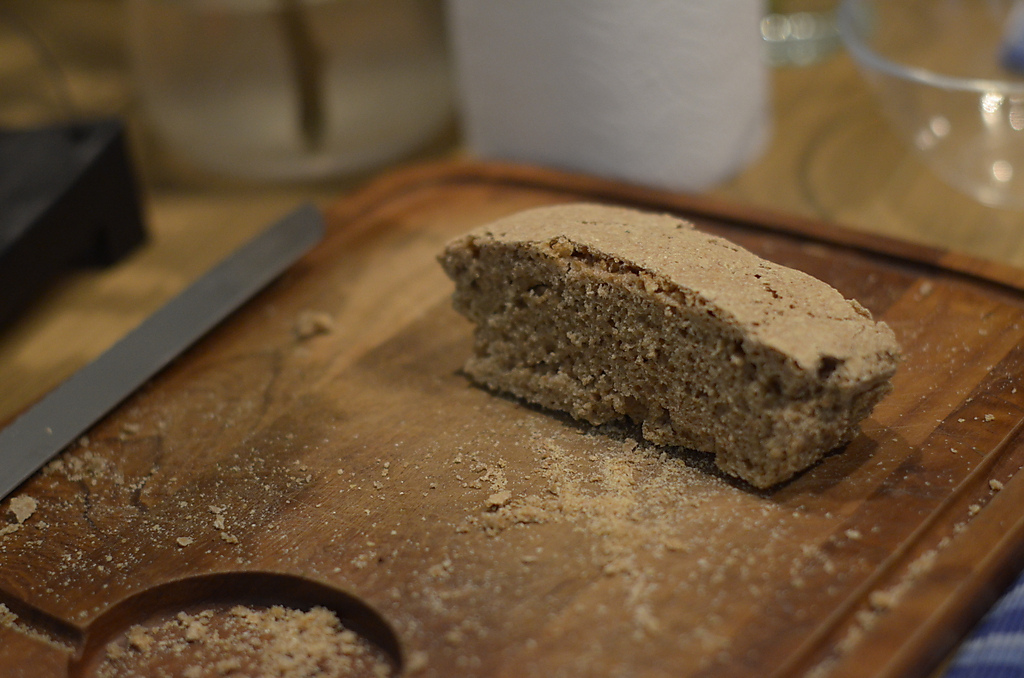slice of bread: (460, 196, 893, 493)
